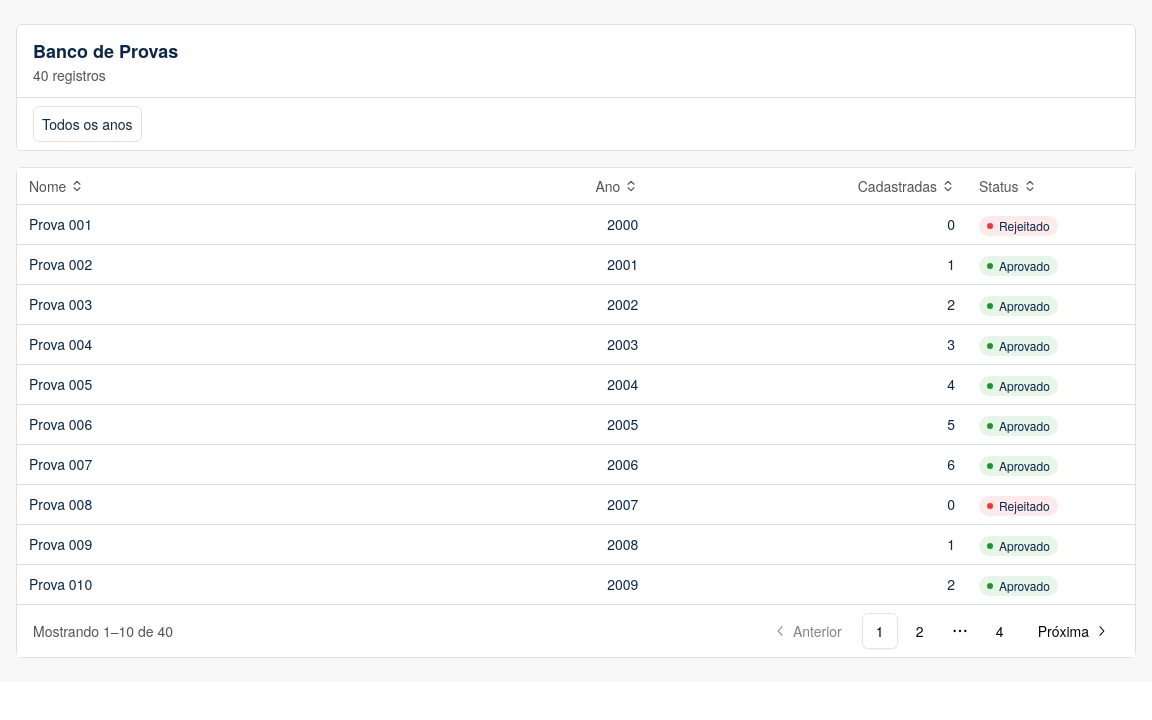
Scenario: DashListTemplate — trocar filtro volta para a página 1 › ⚠️ mudar um select reposiciona na página 1 e repassa o valor à tela
Click the link "4": {"x": 1000, "y": 631} top-left (996, 621), bottom-right (1004, 641)
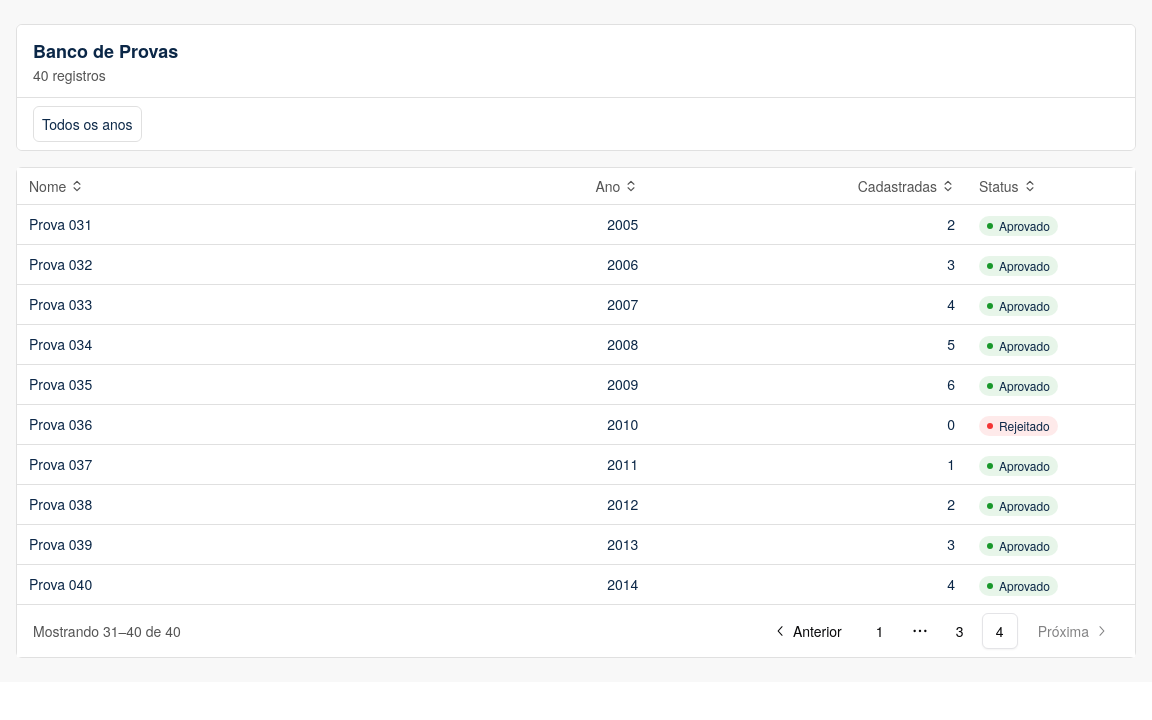
Select "2019" in the dropdown named "Todos os anos": {"x": 88, "y": 124} top-left (33, 106), bottom-right (142, 142)
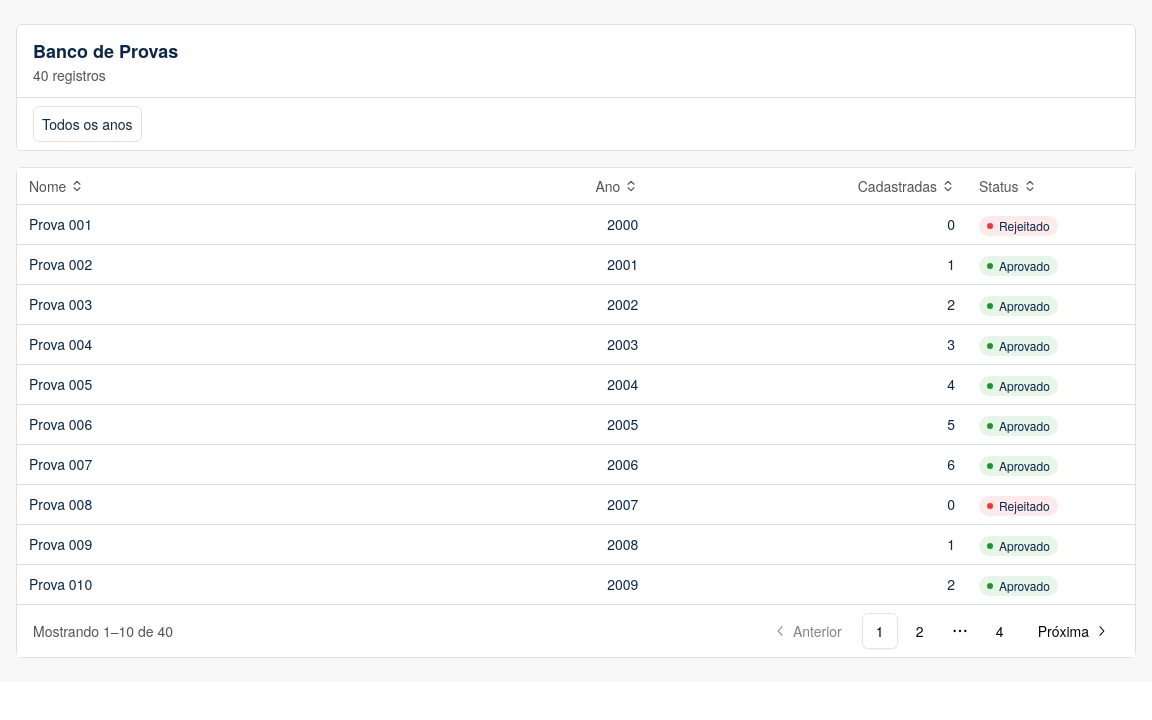
expect the text "Mostrando 1–10 de 40" is shown: met, box top-left (33, 621), bottom-right (173, 641)
